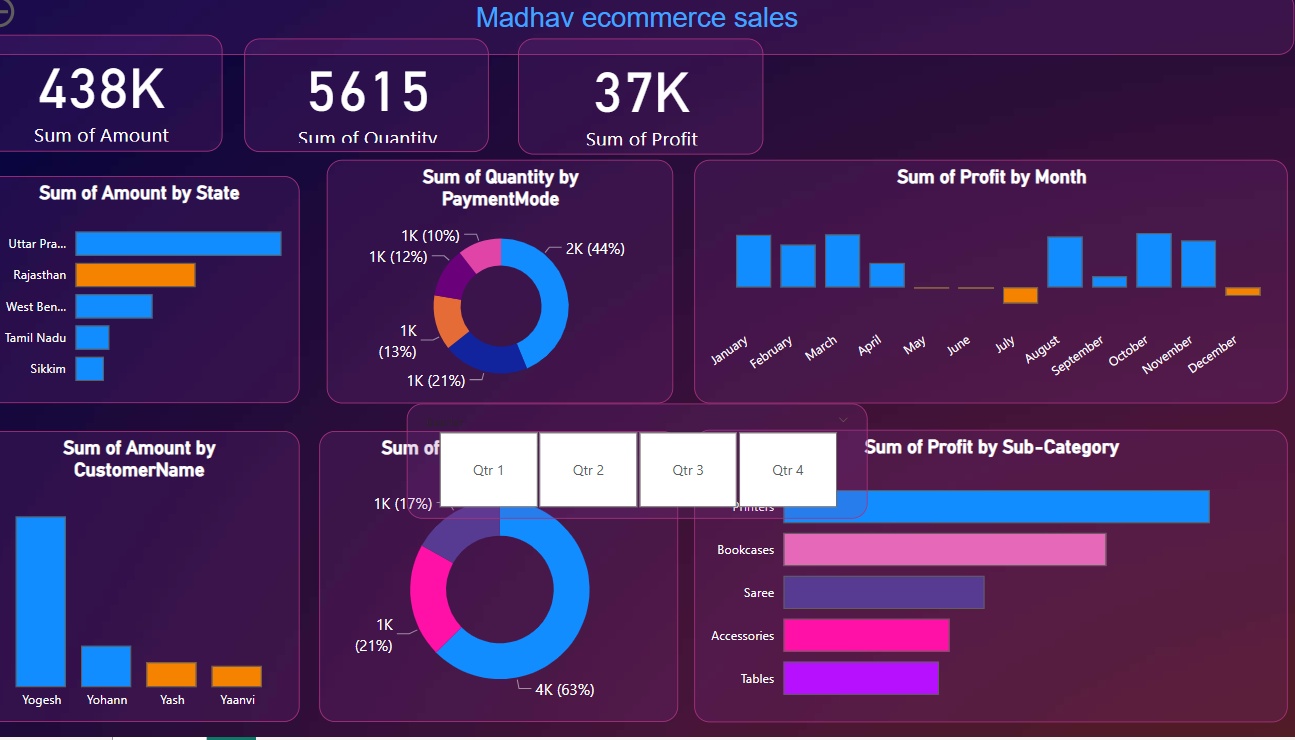

This screenshot's page, from the dashboard's own definition file:
{"tool":"powerbi","page":{"name":"Page 1","canvas":[1280,720],"ordinal":0},"visuals":[{"type":"textbox","box":[0,0,1270.4,61.5],"z":0},{"type":"columnChart","fields":{"Y":["Details.Profit"],"Category":["Orders.Order Date.Variation.Date Hierarchy.Month"]},"box":[691.3,162.9,573.1,235.3],"z":1},{"type":"barChart","fields":{"Category":["Details.Sub-Category"],"Y":["Details.Profit"]},"box":[691.3,423.5,573.1,282.3],"z":2},{"type":"donutChart","fields":{"Category":["Details.Category"],"Y":["Details.Quantity"]},"box":[329.4,424.7,346.2,281.1],"z":3},{"type":"donutChart","fields":{"Category":["Details.PaymentMode"],"Y":["Details.Quantity"]},"box":[336.6,162.9,334.2,235.3],"z":4},{"type":"actionButton","box":[0,0,100,40],"z":5},{"type":"card","fields":{"Values":["Details.Amount"]},"box":[0,42.5,236,112.5],"z":6},{"type":"card","fields":{"Values":["Details.Quantity"]},"box":[256.6,45.3,236,109.8],"z":8},{"type":"card","fields":{"Values":["Details.Profit"]},"box":[521.2,45.8,236.5,112.2],"z":9},{"type":"barChart","fields":{"Y":["Details.Amount"],"Category":["Orders.State"]},"box":[0,178.6,310.1,219.6],"z":10},{"type":"columnChart","fields":{"Category":["Orders.CustomerName"],"Y":["Details.Amount"]},"box":[0,425,310,281],"z":11},{"type":"slicer","fields":{"Values":["Orders.Order Date.Variation.Date Hierarchy.Quarter"]},"box":[413.9,398.5,444.8,111.2],"z":12}]}

Visuals, with their boxes in screenshot pixels (x1, y1, x2, y2), scaled from the page's 1280x720 canvas onto the 1295x740 screenshot:
textbox: (left=0, top=0, right=1285, bottom=63)
columnChart - Details.Profit x Orders.Order Date.Variation.Date Hierarchy.Month: (left=699, top=167, right=1279, bottom=409)
barChart - Details.Sub-Category x Details.Profit: (left=699, top=435, right=1279, bottom=725)
donutChart - Details.Category x Details.Quantity: (left=333, top=436, right=684, bottom=725)
donutChart - Details.PaymentMode x Details.Quantity: (left=341, top=167, right=679, bottom=409)
actionButton: (left=0, top=0, right=101, bottom=41)
card - Details.Amount: (left=0, top=44, right=239, bottom=159)
card - Details.Quantity: (left=260, top=47, right=498, bottom=159)
card - Details.Profit: (left=527, top=47, right=767, bottom=162)
barChart - Details.Amount x Orders.State: (left=0, top=184, right=314, bottom=409)
columnChart - Orders.CustomerName x Details.Amount: (left=0, top=437, right=314, bottom=726)
slicer - Orders.Order Date.Variation.Date Hierarchy.Quarter: (left=419, top=410, right=869, bottom=524)
